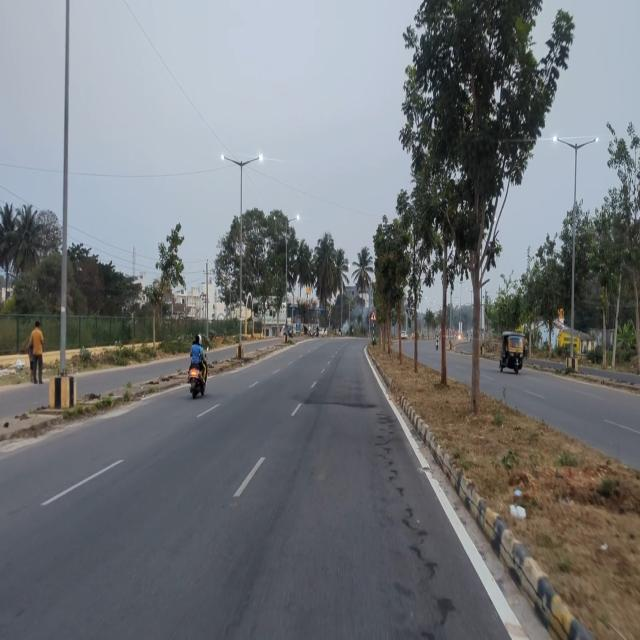bien_cam: (369, 309, 376, 321)
